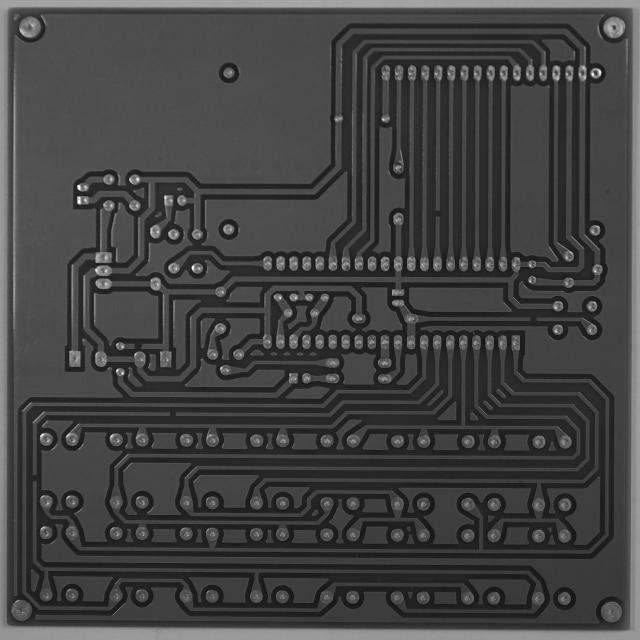open_circuit: (526, 314, 540, 326), (130, 341, 144, 352), (30, 470, 39, 485), (167, 408, 178, 420), (432, 207, 442, 219)
